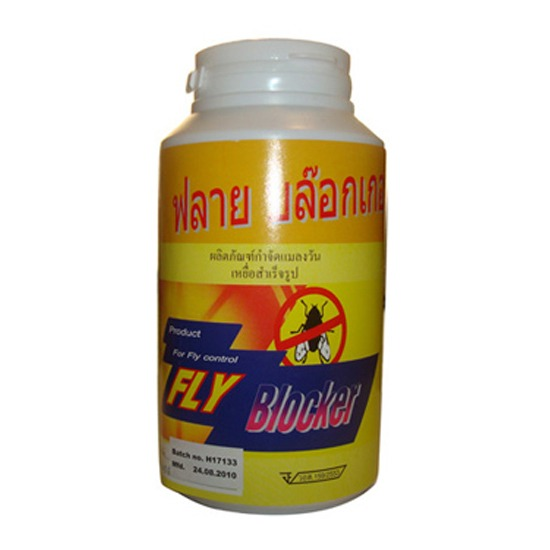Insecticide: (149, 34, 392, 520)
